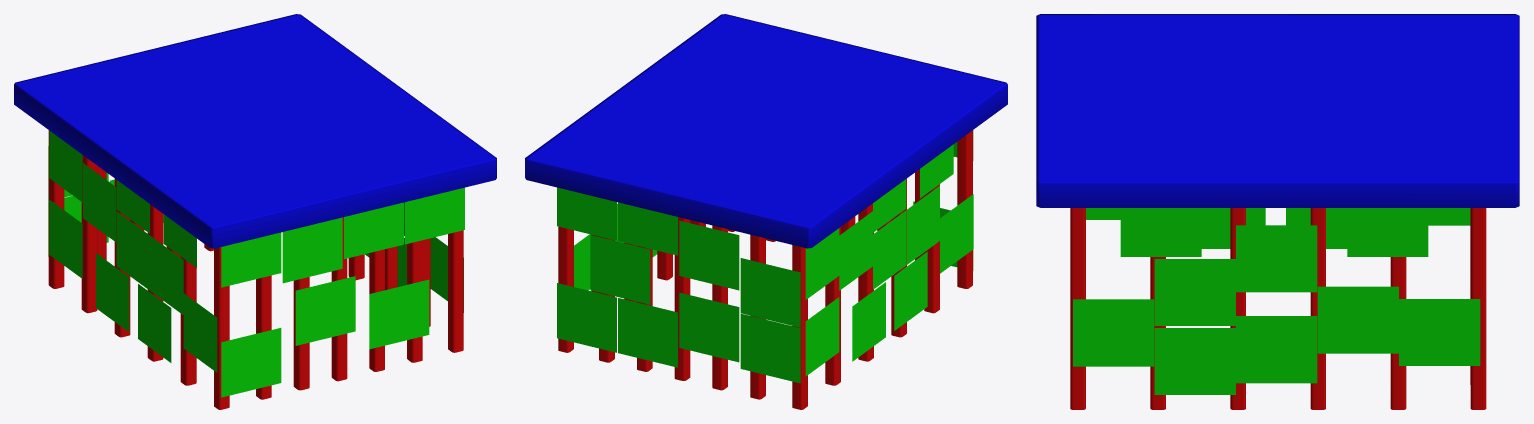
The model's file is Tower_Floor_1.fbx.
3 views of the same model, side by side, from view 1: azimuth 30°, elevation 25°; view 2: azimuth 150°, elevation 25°; view 3: azimuth 270°, elevation 25° (orthographic). The views are drawn at different scales.
Parts seen in each view (by area): view 1: Floor_1_UV; view 2: Floor_1_UV; view 3: Floor_1_UV.
Boxes of the visible parts, x1=… form: Floor_1_UV: x1=14, y1=14, x2=496, y2=409; Floor_1_UV: x1=525, y1=14, x2=1007, y2=409; Floor_1_UV: x1=1036, y1=14, x2=1519, y2=409.
Bounding box in the file's own units: 818 × 536 × 985.
